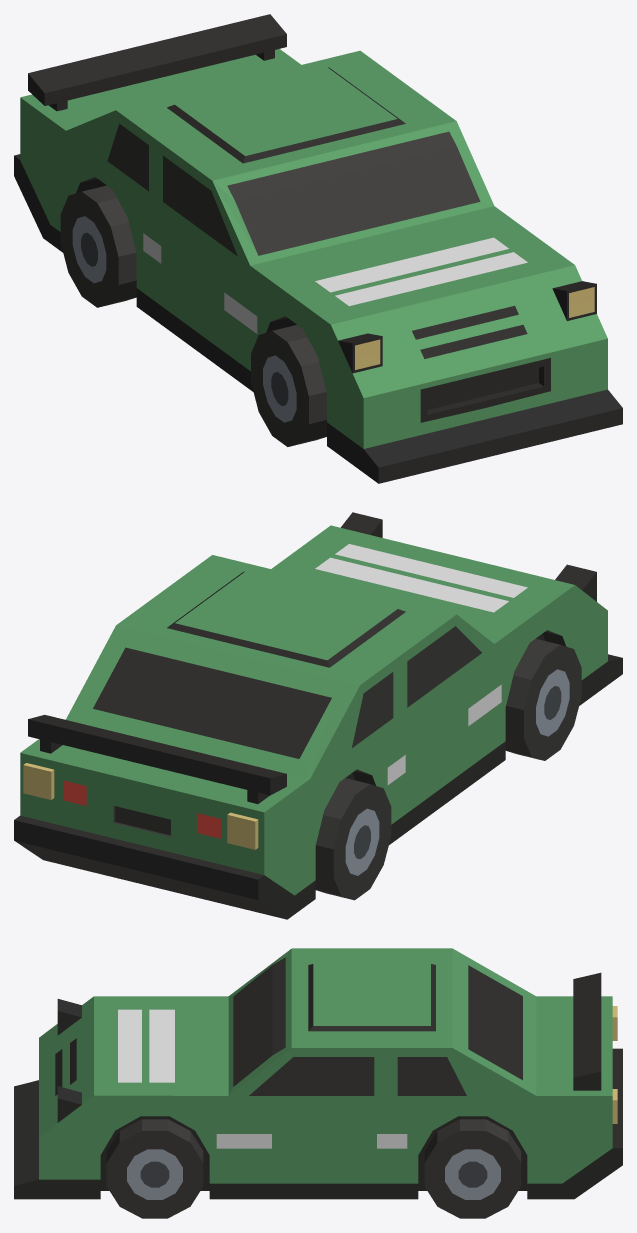
Rendered from Car_02.FBX.
3 views of the same model, one above another, from view 1: azimuth 30°, elevation 25°; view 2: azimuth 150°, elevation 25°; view 3: azimuth 270°, elevation 25° (orthographic). The views are drawn at different scales.
Parts seen in each view (by area): view 1: Car_02, BR, FR; view 2: Car_02, FR, BR; view 3: Car_02, FL, BL.
Boxes of the visible parts, box(x1,y1,x2,y2) form: Car_02: box(14, 14, 622, 483); BR: box(60, 185, 136, 307); FR: box(251, 325, 326, 446); Car_02: box(14, 512, 622, 919); FR: box(505, 638, 581, 760); BR: box(315, 778, 391, 900); Car_02: box(14, 948, 622, 1199); FL: box(106, 1119, 203, 1218); BL: box(424, 1119, 521, 1218).
Bounding box in the file's own units: 208 × 147 × 482.
Materials: 1 (1 with a texture image).
